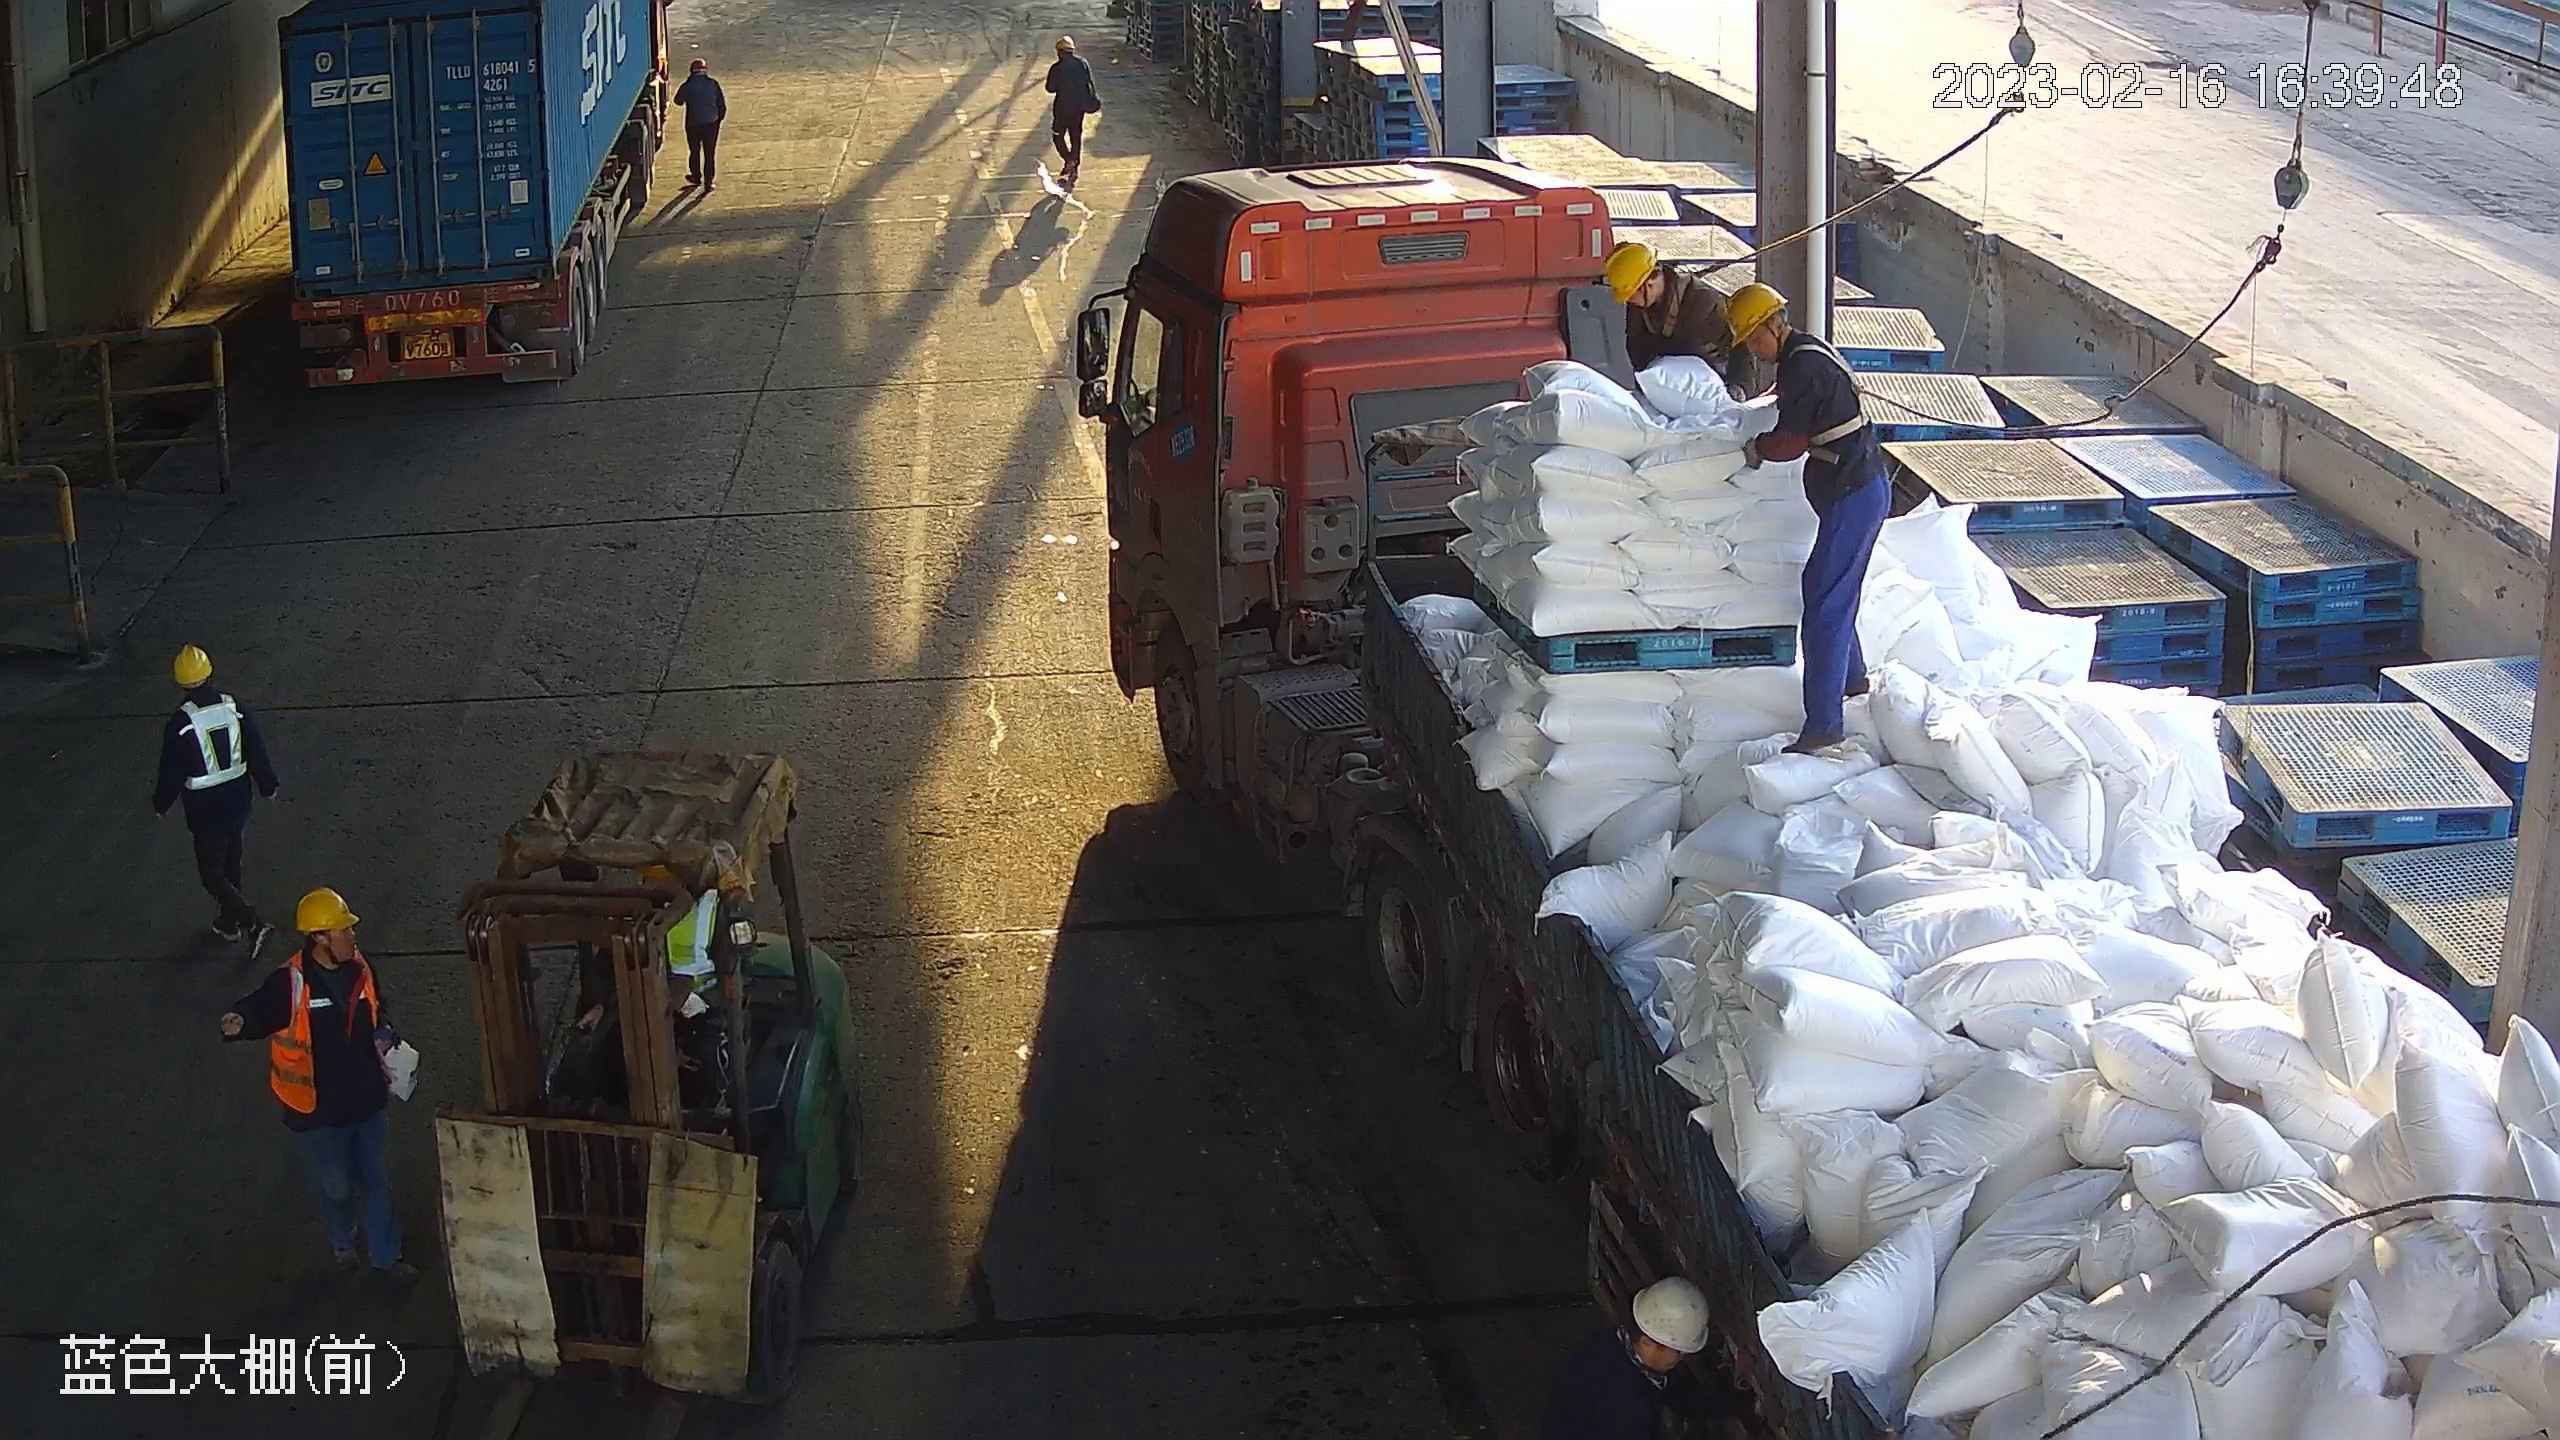belt: (1775, 331, 1898, 469), (1633, 266, 1720, 337)
head: (1726, 283, 1859, 390), (1601, 236, 1735, 321), (263, 886, 376, 988), (164, 642, 253, 734)
helmet: (1725, 282, 1790, 348), (1603, 240, 1656, 303), (292, 884, 360, 932), (172, 643, 214, 685)
people: (220, 886, 425, 1279), (1727, 282, 1894, 757), (150, 639, 282, 962)
truck: (1101, 152, 2560, 1440), (273, 1, 687, 383)
